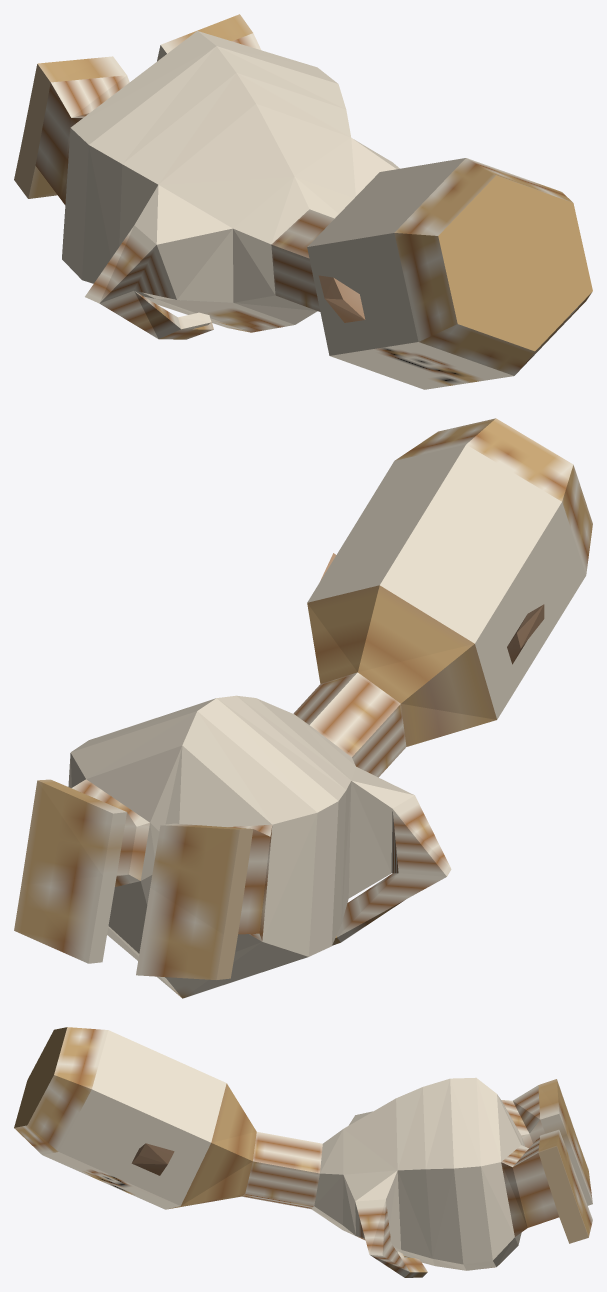
Rendered from ancientIdol_heroic.obj.
The picture shows the model from 3 angles, top to bottom: view 1: azimuth 30°, elevation 25°; view 2: azimuth 150°, elevation 25°; view 3: azimuth 270°, elevation 25°; orthographic projection. The views are drawn at different scales.
Parts seen in each view (by area): view 1: Cylinder; view 2: Cylinder; view 3: Cylinder.
Part boxes in pixels (<box>): Cylinder: <box>14,14,592,389</box>; Cylinder: <box>14,418,592,998</box>; Cylinder: <box>14,1027,592,1277</box>.
Size of the model in its own units: 8.85 by 8.31 by 17.89.
